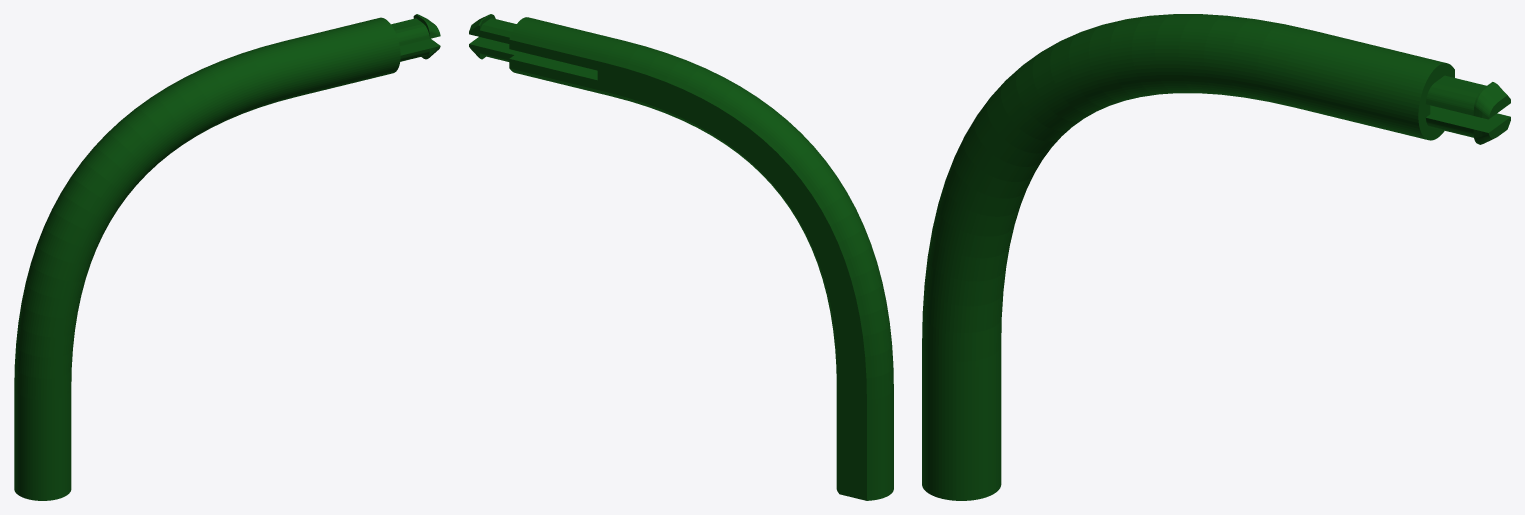
The model's file is stem_3A_90_R.glb.
3 renders of one model, left to right at view 1: azimuth 30°, elevation 25°; view 2: azimuth 150°, elevation 25°; view 3: azimuth 330°, elevation 25°, orthographic. The views are drawn at different scales.
Parts seen in each view (by area): view 1: stem_3A_90_R; view 2: stem_3A_90_R; view 3: stem_3A_90_R.
Boxes of the visible parts, bbox=[...] form: stem_3A_90_R: bbox=[14, 14, 440, 500]; stem_3A_90_R: bbox=[469, 14, 893, 500]; stem_3A_90_R: bbox=[922, 14, 1510, 500].
Bounding box in the file's own units: 0.0602 × 0.0536 × 0.00666.
